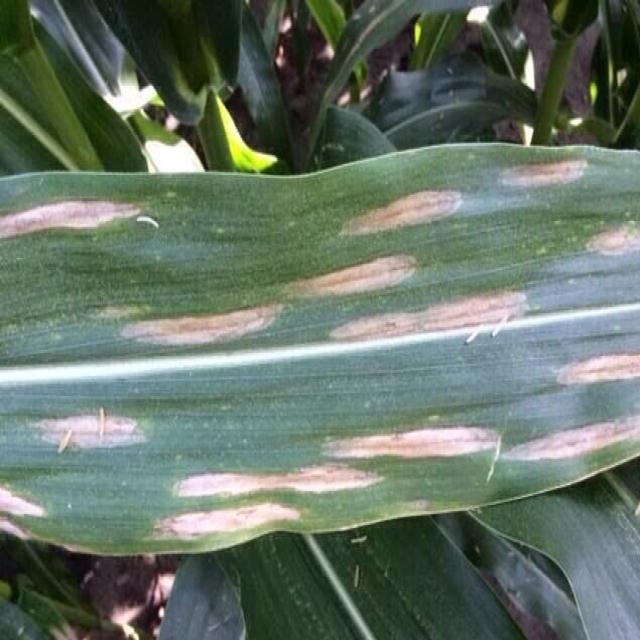Corn_Leaf_Blight: (0, 141, 640, 536)
